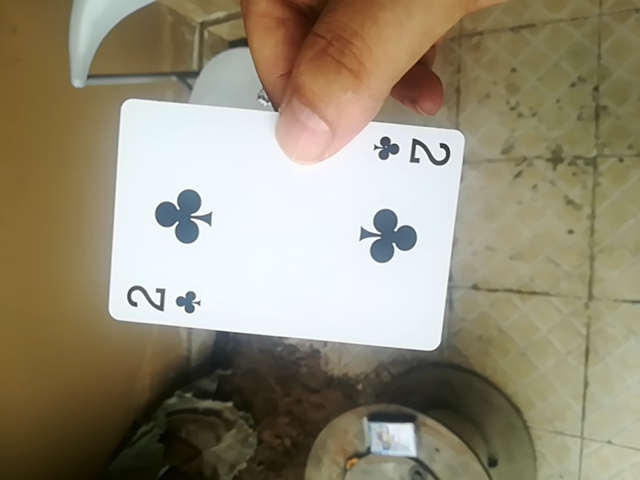mh 2: (106, 93, 470, 358)
